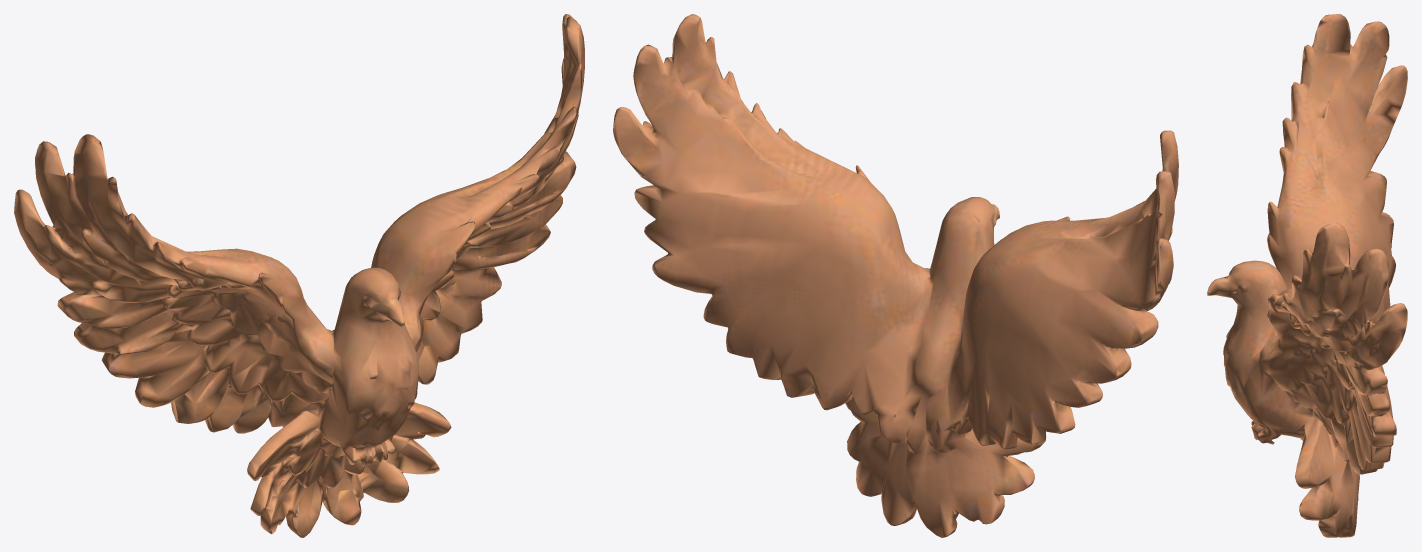
Rendered from kit_mardin_dove_perched.glb.
3 renders of one model, left to right at view 1: azimuth 30°, elevation 25°; view 2: azimuth 150°, elevation 25°; view 3: azimuth 270°, elevation 25°, orthographic. The views are drawn at different scales.
Parts seen in each view (by area): view 1: Mesh1.0; view 2: Mesh1.0; view 3: Mesh1.0.
Boxes of the visible parts, <box> form: Mesh1.0: <box>14,14,584,537</box>; Mesh1.0: <box>613,14,1178,537</box>; Mesh1.0: <box>1207,14,1407,537</box>.
Bounding box in the file's own units: 2.04 × 1.6 × 0.7133.
1 material, 1 textured.
